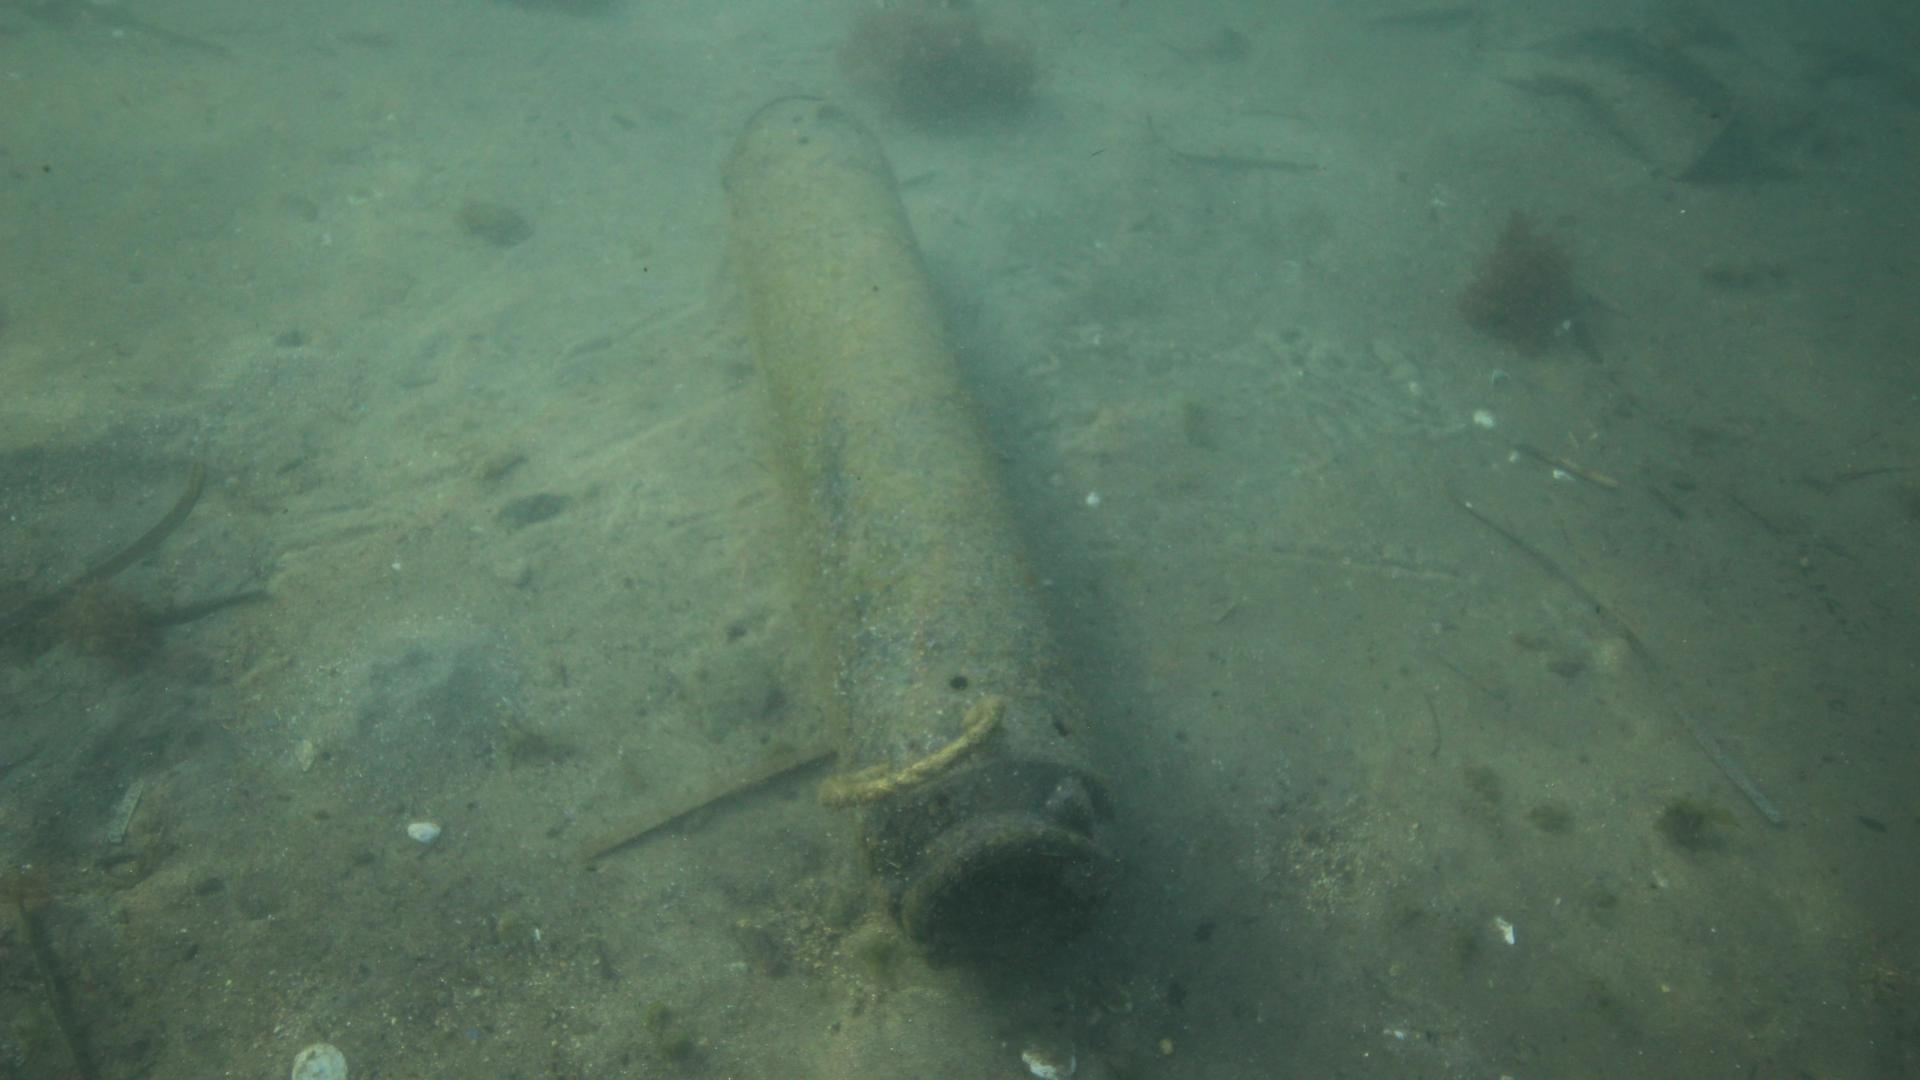eel fish trap: (717, 94, 1112, 969)
rope: (814, 694, 1009, 811)
